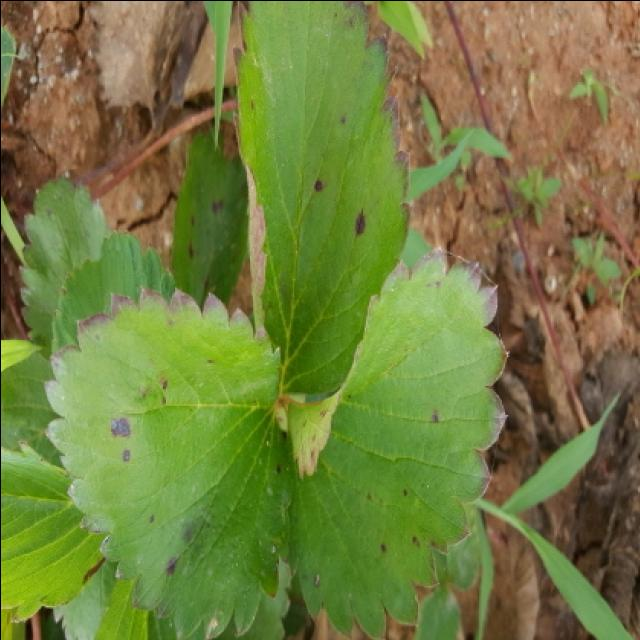Leaf Spot: (281, 250, 509, 640), (42, 283, 288, 640), (231, 2, 412, 401), (17, 176, 114, 347), (171, 135, 247, 307)
